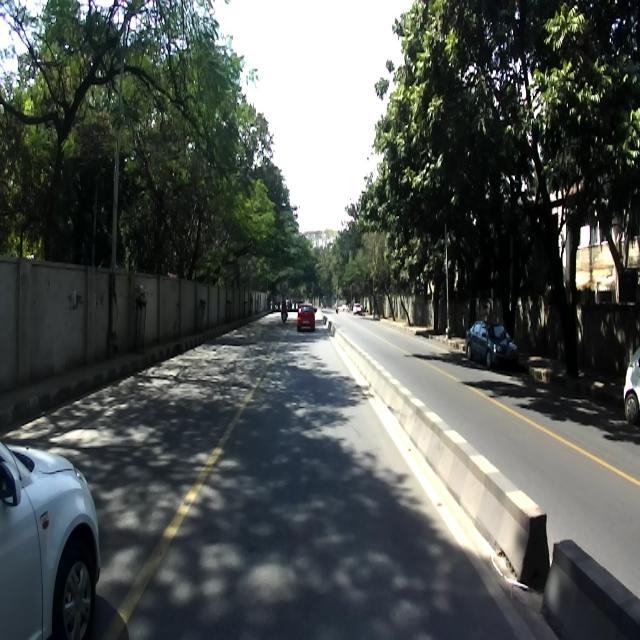car: (0, 434, 102, 637), (462, 318, 521, 366)
